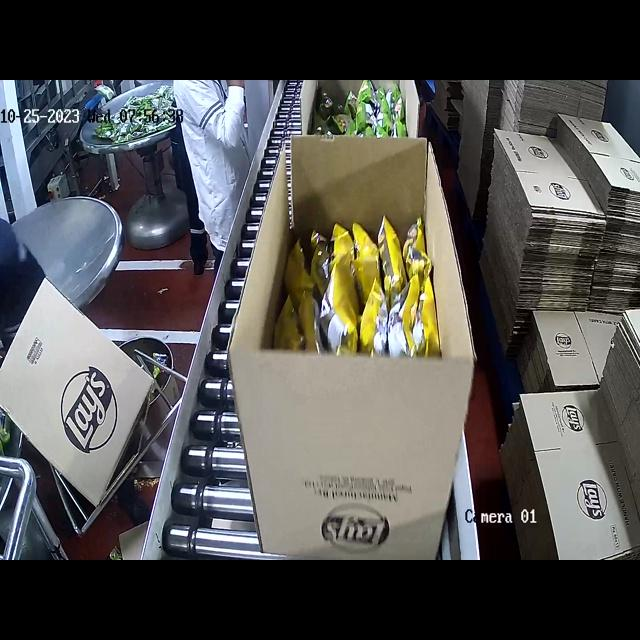salted: (290, 217, 436, 351)
yogurt: (317, 89, 418, 140)
